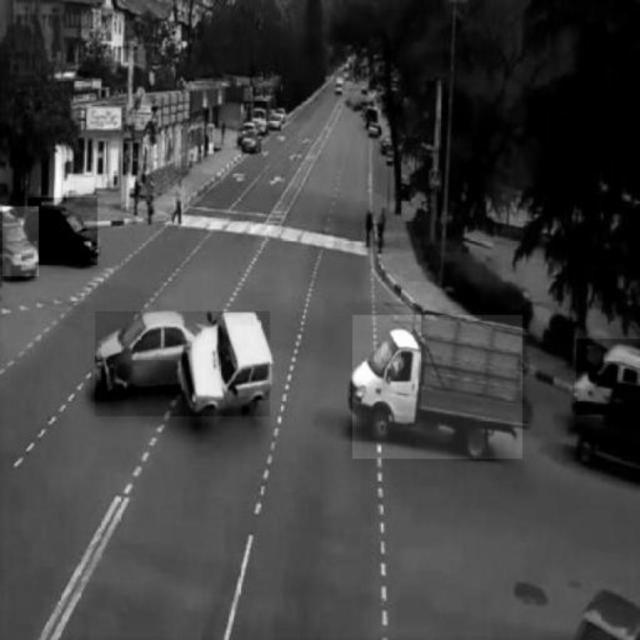accident: (96, 312, 271, 416)
person: (174, 179, 184, 225)
vehicle: (353, 315, 523, 459), (576, 339, 640, 415), (28, 198, 98, 265), (3, 206, 39, 276)
